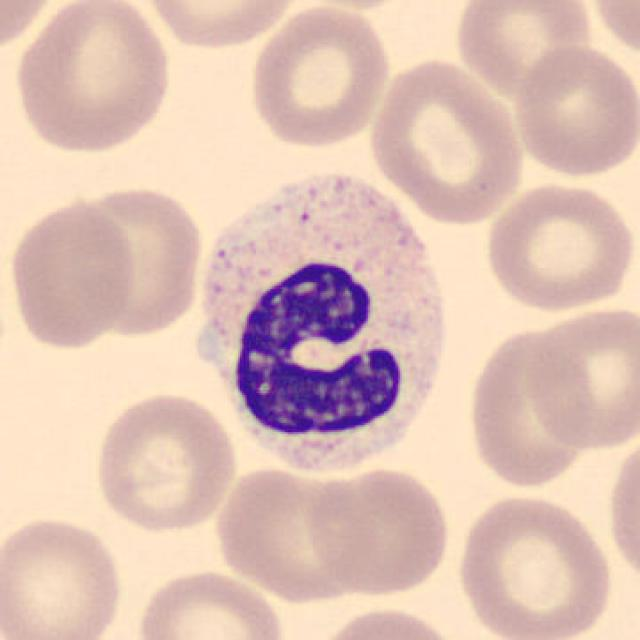Neutrophil: (197, 157, 453, 492)
RBC: (364, 54, 528, 228), (9, 2, 176, 157), (451, 490, 617, 640), (210, 462, 375, 603), (462, 321, 596, 494), (68, 180, 208, 340), (89, 388, 242, 534), (245, 2, 393, 150), (4, 195, 140, 352), (480, 178, 636, 314), (304, 464, 453, 600), (519, 302, 638, 453), (508, 42, 638, 180), (0, 513, 128, 640), (449, 0, 597, 102), (132, 566, 290, 640), (137, 0, 302, 51), (602, 428, 640, 594), (309, 603, 464, 640), (0, 0, 66, 56), (585, 0, 640, 63), (288, 0, 425, 12)
